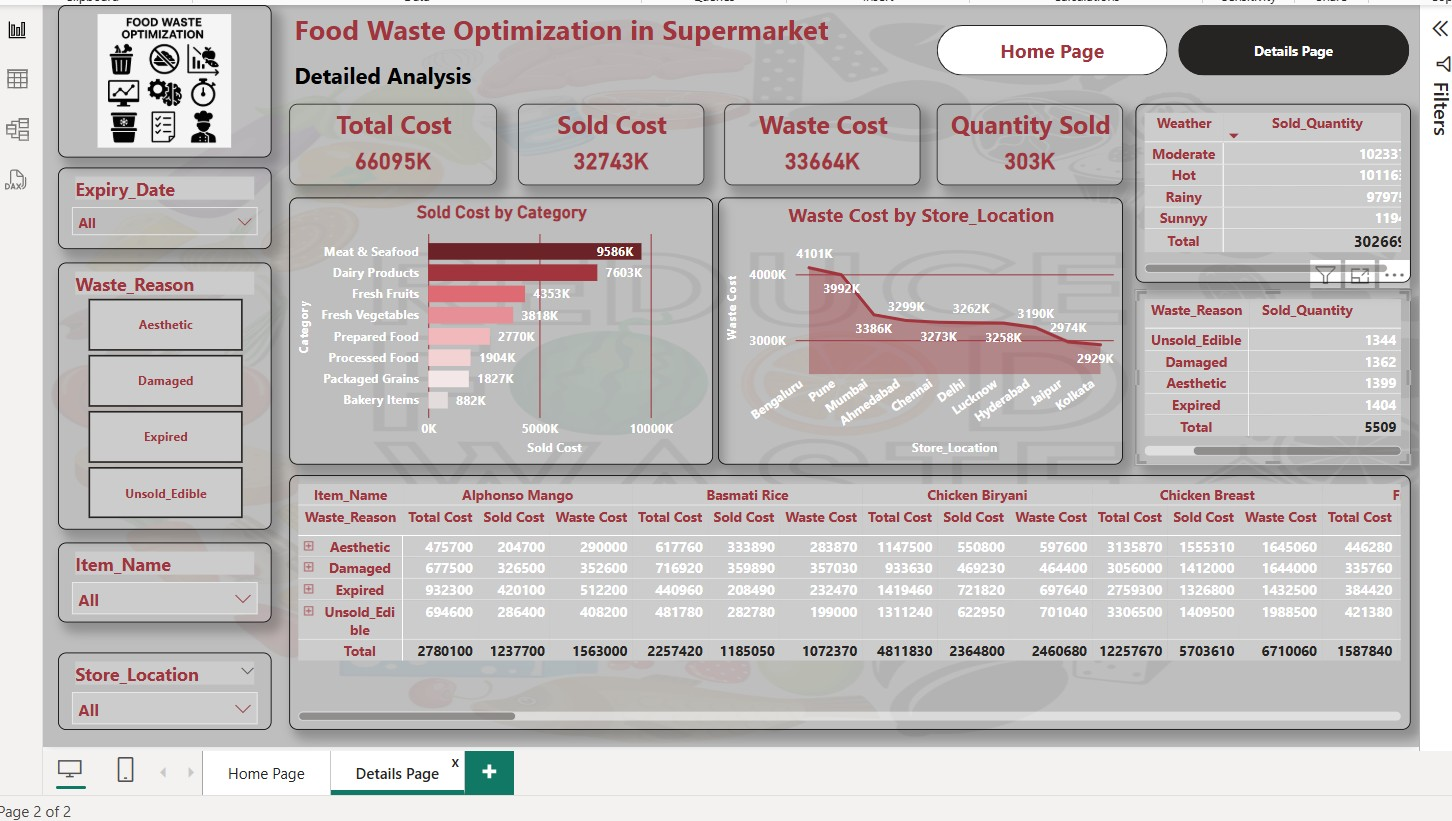

What the dashboard file says about the page in this screenshot:
{"tool":"powerbi","page":{"name":"Details Page","canvas":[1335,720],"ordinal":1},"visuals":[{"type":"textbox","box":[238.9,0,537.3,54.6],"z":0},{"type":"card","title":"Quantity Sold","fields":{"Values":["Sum(Table1.Sold_Quantity)"]},"box":[867.1,95.8,180.7,78.8],"z":1000},{"type":"card","title":"Total Cost","fields":{"Values":["Table1.Total Cost"]},"box":[238.9,95.8,201.3,78.8],"z":2000},{"type":"card","title":"Waste Cost","fields":{"Values":["Table1.Waste Cost"]},"box":[661,95.8,190.4,78.8],"z":3000},{"type":"card","title":"Sold Cost","fields":{"Values":["Table1.Sold Cost"]},"box":[460.8,95.8,180.7,78.8],"z":4000},{"type":"slicer","fields":{"Values":["Table1.Waste_Reason"]},"box":[14.6,249.8,207.4,259.5],"z":5000},{"type":"slicer","fields":{"Values":["Table1.Item_Name"]},"box":[14.6,521.5,207.4,77.6],"z":6000},{"type":"slicer","fields":{"Values":["Table1.Store_Location"]},"box":[14.6,628.2,207.4,75.2],"z":7000},{"type":"barChart","fields":{"Category":["Table1.Category"],"Y":["Table1.Sold Cost"]},"box":[238.9,186.8,411.1,259.5],"z":8000},{"type":"areaChart","fields":{"Category":["Table1.Store_Location"],"Y":["Table1.Waste Cost"]},"box":[654.9,186.8,392.9,259.5],"z":9000},{"type":"pivotTable","fields":{"Rows":["Table1.Waste_Reason"],"Values":["CountNonNull(Table1.Sold_Quantity)"]},"box":[1060,276.5,266.8,169.8],"z":10000},{"type":"pivotTable","fields":{"Rows":["Table1.Weather"],"Values":["Sum(Table1.Sold_Quantity)"]},"box":[1060,95.8,266.8,173.4],"z":11000},{"type":"pivotTable","fields":{"Rows":["Table1.Waste_Reason","Table1.Region"],"Columns":["Table1.Item_Name"],"Values":["Table1.Total Cost","Table1.Sold Cost","Table1.Waste Cost"]},"box":[238.9,456,1087.8,247.4],"z":12000},{"type":"slicer","fields":{"Values":["Table1.Expiry_Date"]},"box":[14.6,157.7,207.4,78.8],"z":13000},{"type":"image","box":[14.6,0,207.4,148],"z":14000},{"type":"pageNavigator","box":[867.1,19.4,459.6,49.7],"z":15000},{"type":"textbox","box":[238.9,48.5,206.2,41.2],"z":16000},{"type":"actionButton","box":[0,0,100,40],"z":17000}]}

Visuals, with their boxes in screenshot pixels (x1, y1, x2, y2):
textbox: detection(285, 0, 841, 56)
"Quantity Sold" card: detection(935, 99, 1122, 181)
"Total Cost" card: detection(285, 99, 493, 181)
"Waste Cost" card: detection(722, 99, 919, 181)
"Sold Cost" card: detection(515, 99, 701, 181)
slicer - Table1.Waste_Reason: detection(53, 258, 267, 527)
slicer - Table1.Item_Name: detection(53, 540, 267, 620)
slicer - Table1.Store_Location: detection(53, 650, 267, 728)
barChart - Table1.Category x Table1.Sold Cost: detection(285, 193, 710, 462)
areaChart - Table1.Store_Location x Table1.Waste Cost: detection(715, 193, 1122, 462)
pivotTable - Table1.Waste_Reason x CountNonNull(Table1.Sold_Quantity): detection(1134, 286, 1410, 462)
pivotTable - Table1.Weather x Sum(Table1.Sold_Quantity): detection(1134, 99, 1410, 279)
pivotTable - Table1.Waste_Reason x Table1.Region: detection(285, 472, 1410, 728)
slicer - Table1.Expiry_Date: detection(53, 163, 267, 245)
image: detection(53, 0, 267, 153)
pageNavigator: detection(935, 20, 1410, 71)
textbox: detection(285, 50, 498, 93)
actionButton: detection(38, 0, 141, 41)
